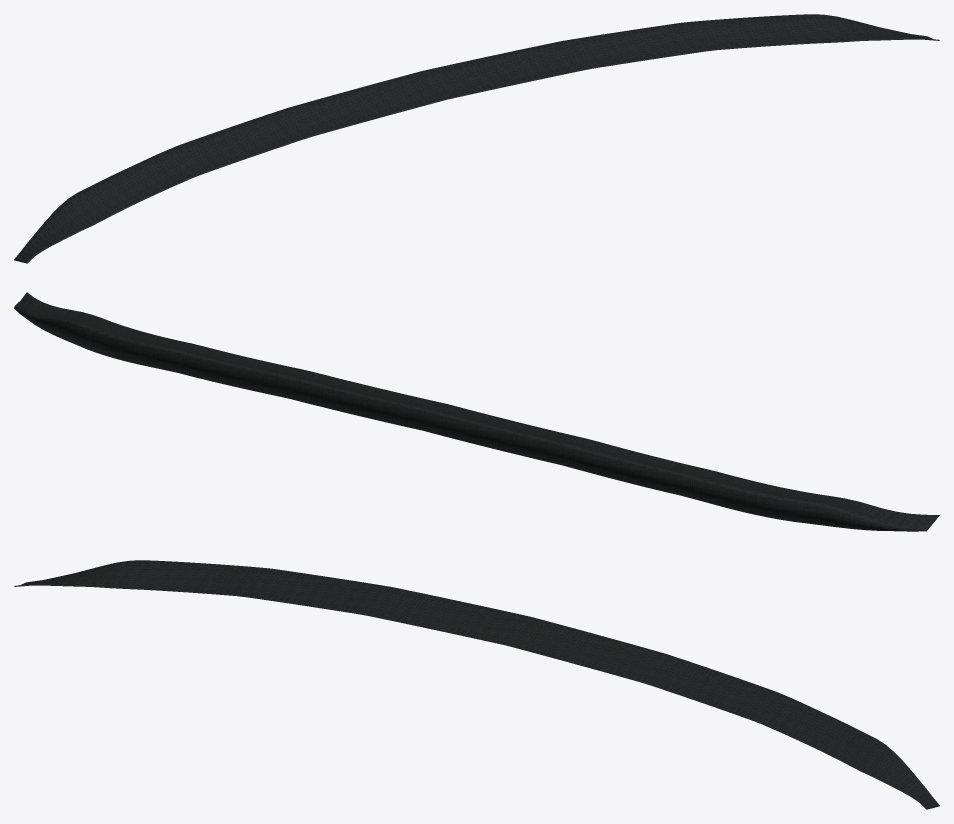
Rendered from RA05_lip_spoiler.glb.
3 renders of one model, top to bottom at view 1: azimuth 30°, elevation 25°; view 2: azimuth 150°, elevation 25°; view 3: azimuth 330°, elevation 25°, orthographic.
Visible parts, largest first — view 1: MOD_ND_RA05_spoiler; view 2: MOD_ND_RA05_spoiler; view 3: MOD_ND_RA05_spoiler.
Part boxes in pixels (left/top/right/bottom): MOD_ND_RA05_spoiler: left=14, top=14, right=939, bottom=263; MOD_ND_RA05_spoiler: left=14, top=292, right=939, bottom=531; MOD_ND_RA05_spoiler: left=14, top=560, right=939, bottom=809.
Bounding box in the file's own units: 0.92 × 0.043 × 0.1062.
1 material, 1 textured.
